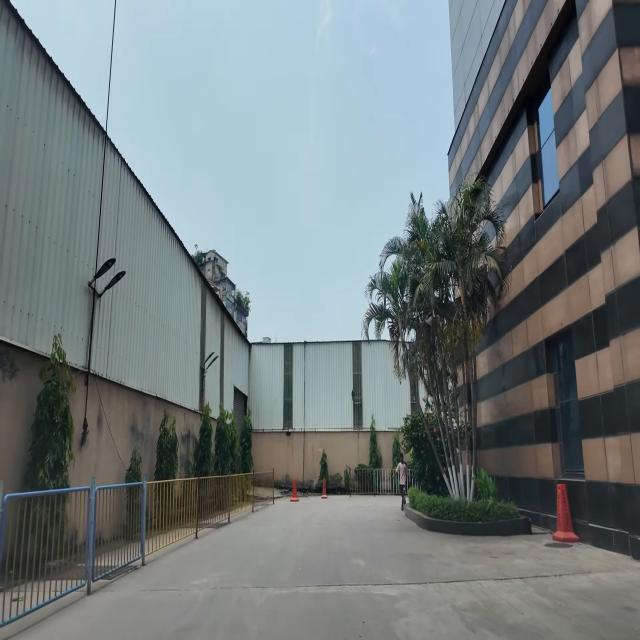person: (394, 453, 408, 510)
